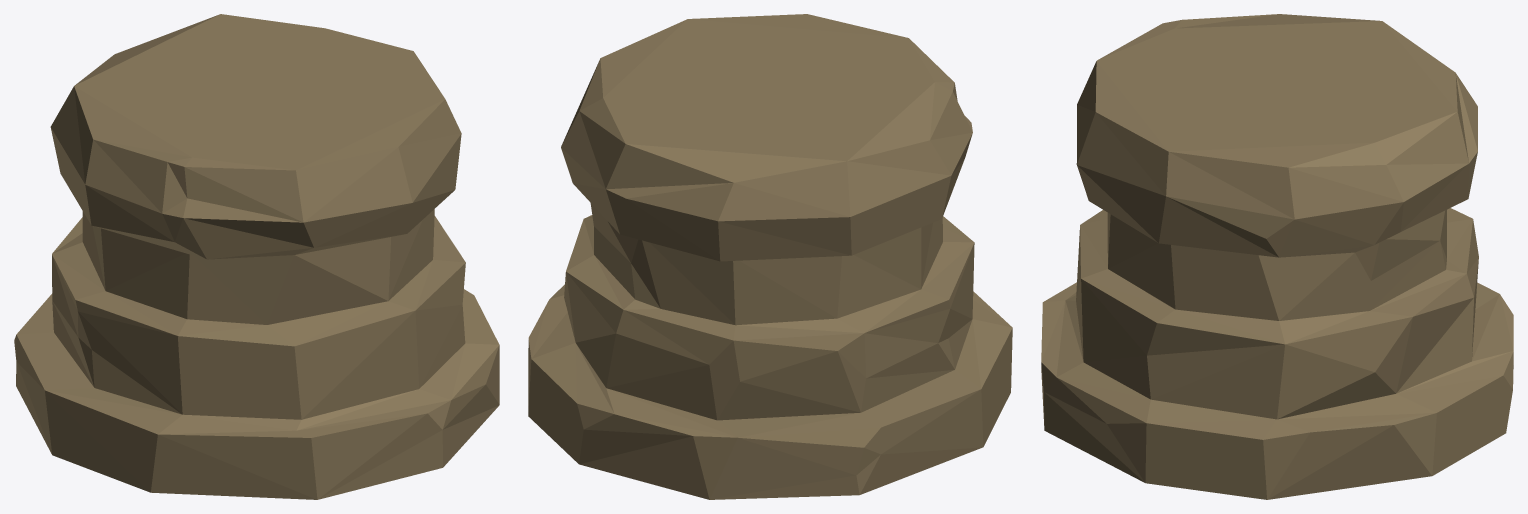
File: Altare_3.fbx
The picture shows the model from 3 angles, left to right: view 1: azimuth 30°, elevation 25°; view 2: azimuth 150°, elevation 25°; view 3: azimuth 270°, elevation 25°; orthographic projection.
Visible parts, largest first — view 1: Altare_3_low; view 2: Altare_3_low; view 3: Altare_3_low.
Boxes of the visible parts, x1=… form: Altare_3_low: x1=14, y1=14, x2=499, y2=499; Altare_3_low: x1=528, y1=14, x2=1012, y2=499; Altare_3_low: x1=1041, y1=14, x2=1513, y2=499.
Bounding box in the file's own units: 1.1 × 0.7611 × 1.05.
